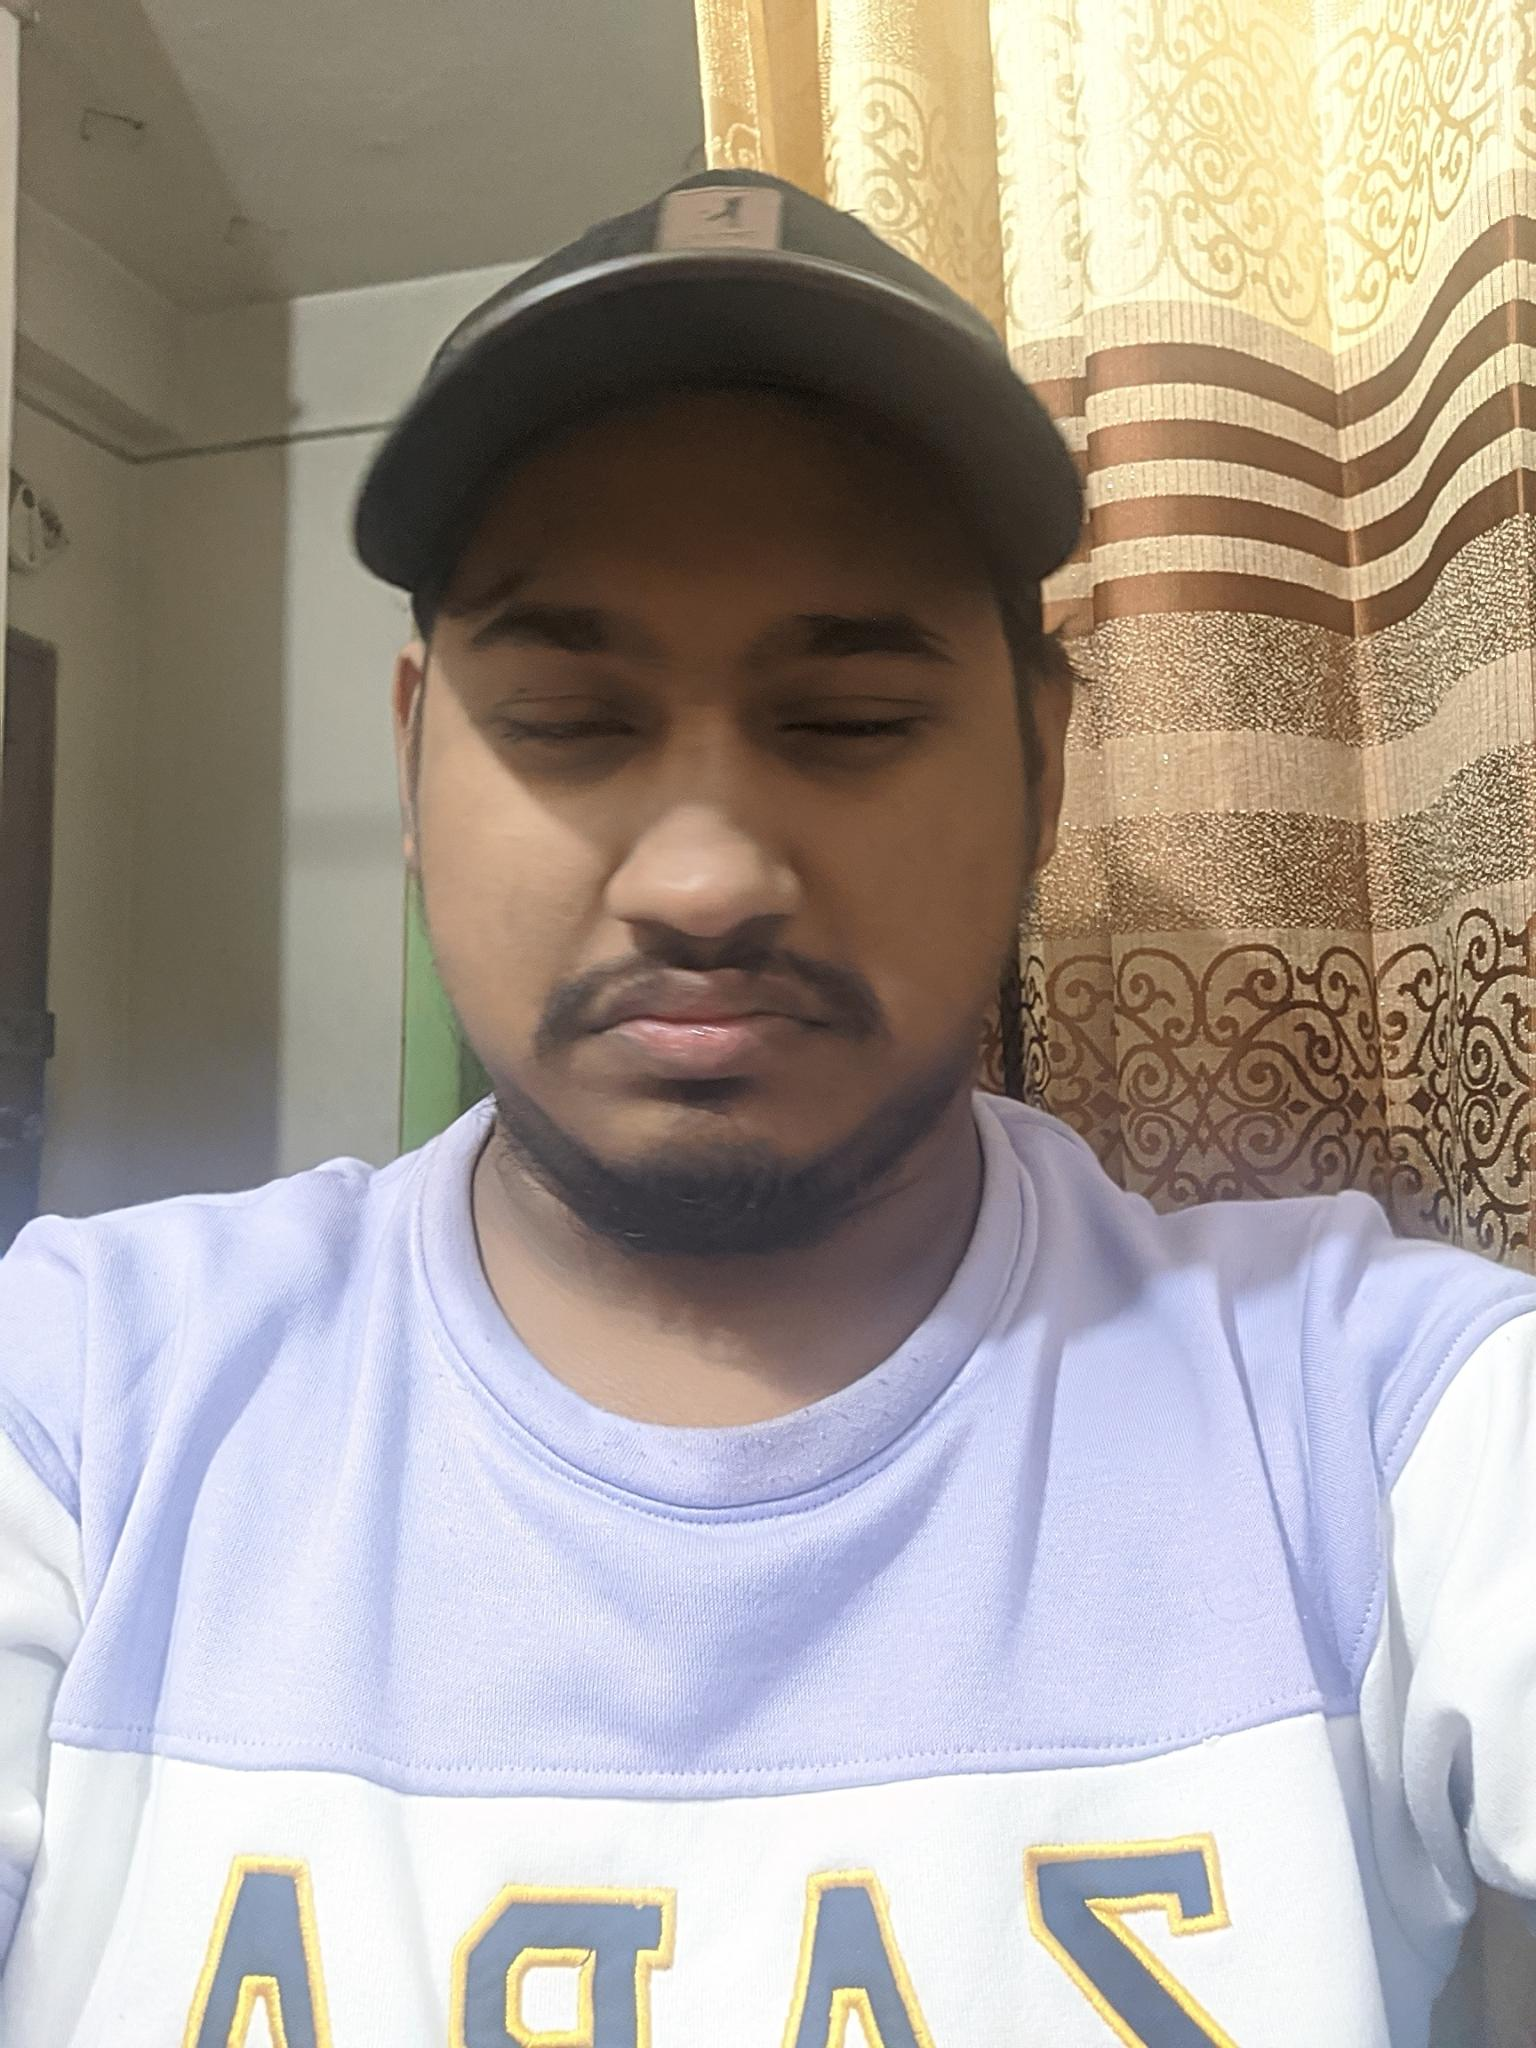Disgust: (428, 505, 1020, 1272)
